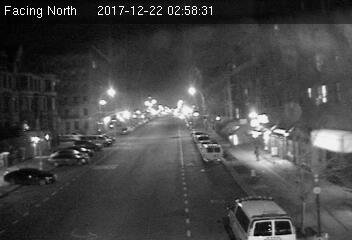police: (224, 192, 296, 240)
truck: (202, 144, 223, 163)
